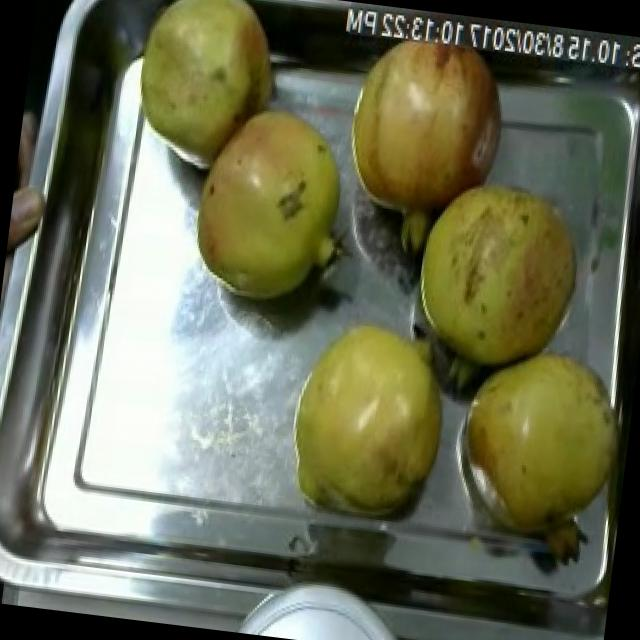fruit: (441, 325, 637, 568), (175, 88, 368, 322), (399, 162, 595, 386), (274, 303, 462, 536), (332, 12, 520, 242), (116, 0, 291, 176), (4, 170, 52, 273)
